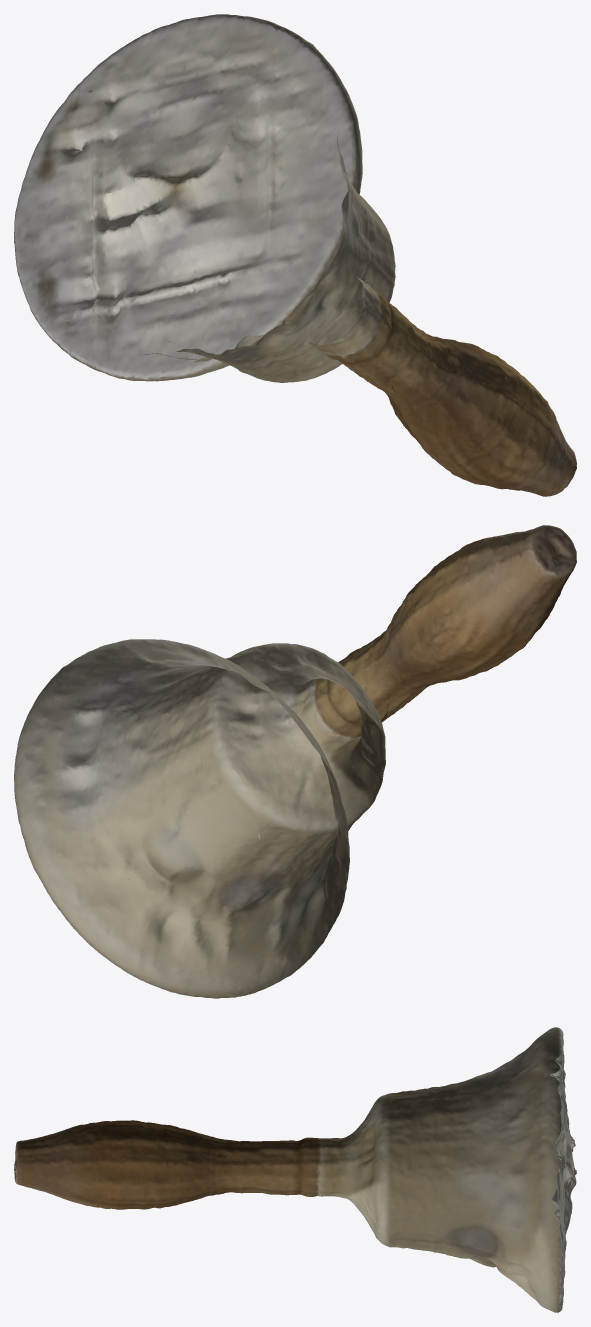
The model's file is bell.glb.
The picture shows the model from 3 angles, top to bottom: view 1: azimuth 30°, elevation 25°; view 2: azimuth 150°, elevation 25°; view 3: azimuth 270°, elevation 25°; orthographic projection. The views are drawn at different scales.
Size of the model in its own units: 0.5086 by 0.5072 by 1.
